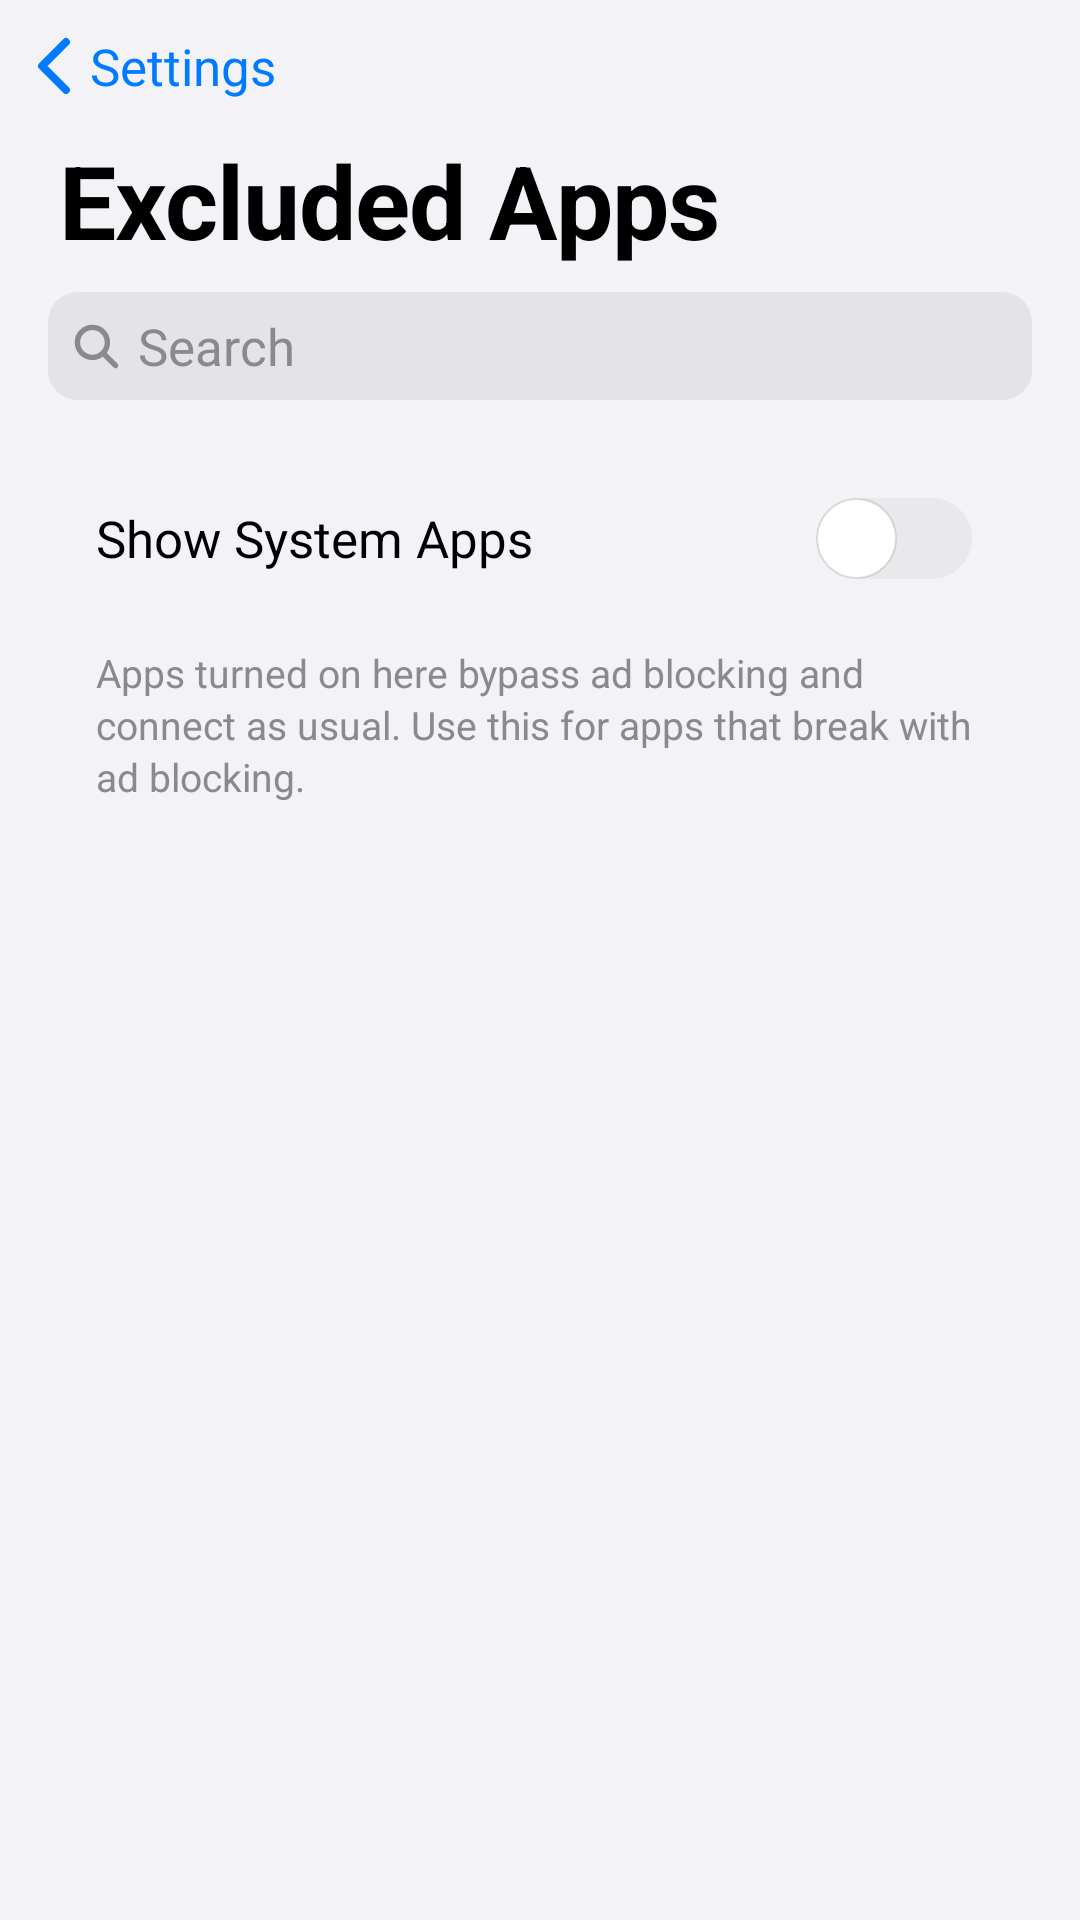

Icons on this 1080px x 1920px Android screen, each with its box as box(x1, y1, x2, y2):
back: box(38, 37, 70, 94)
